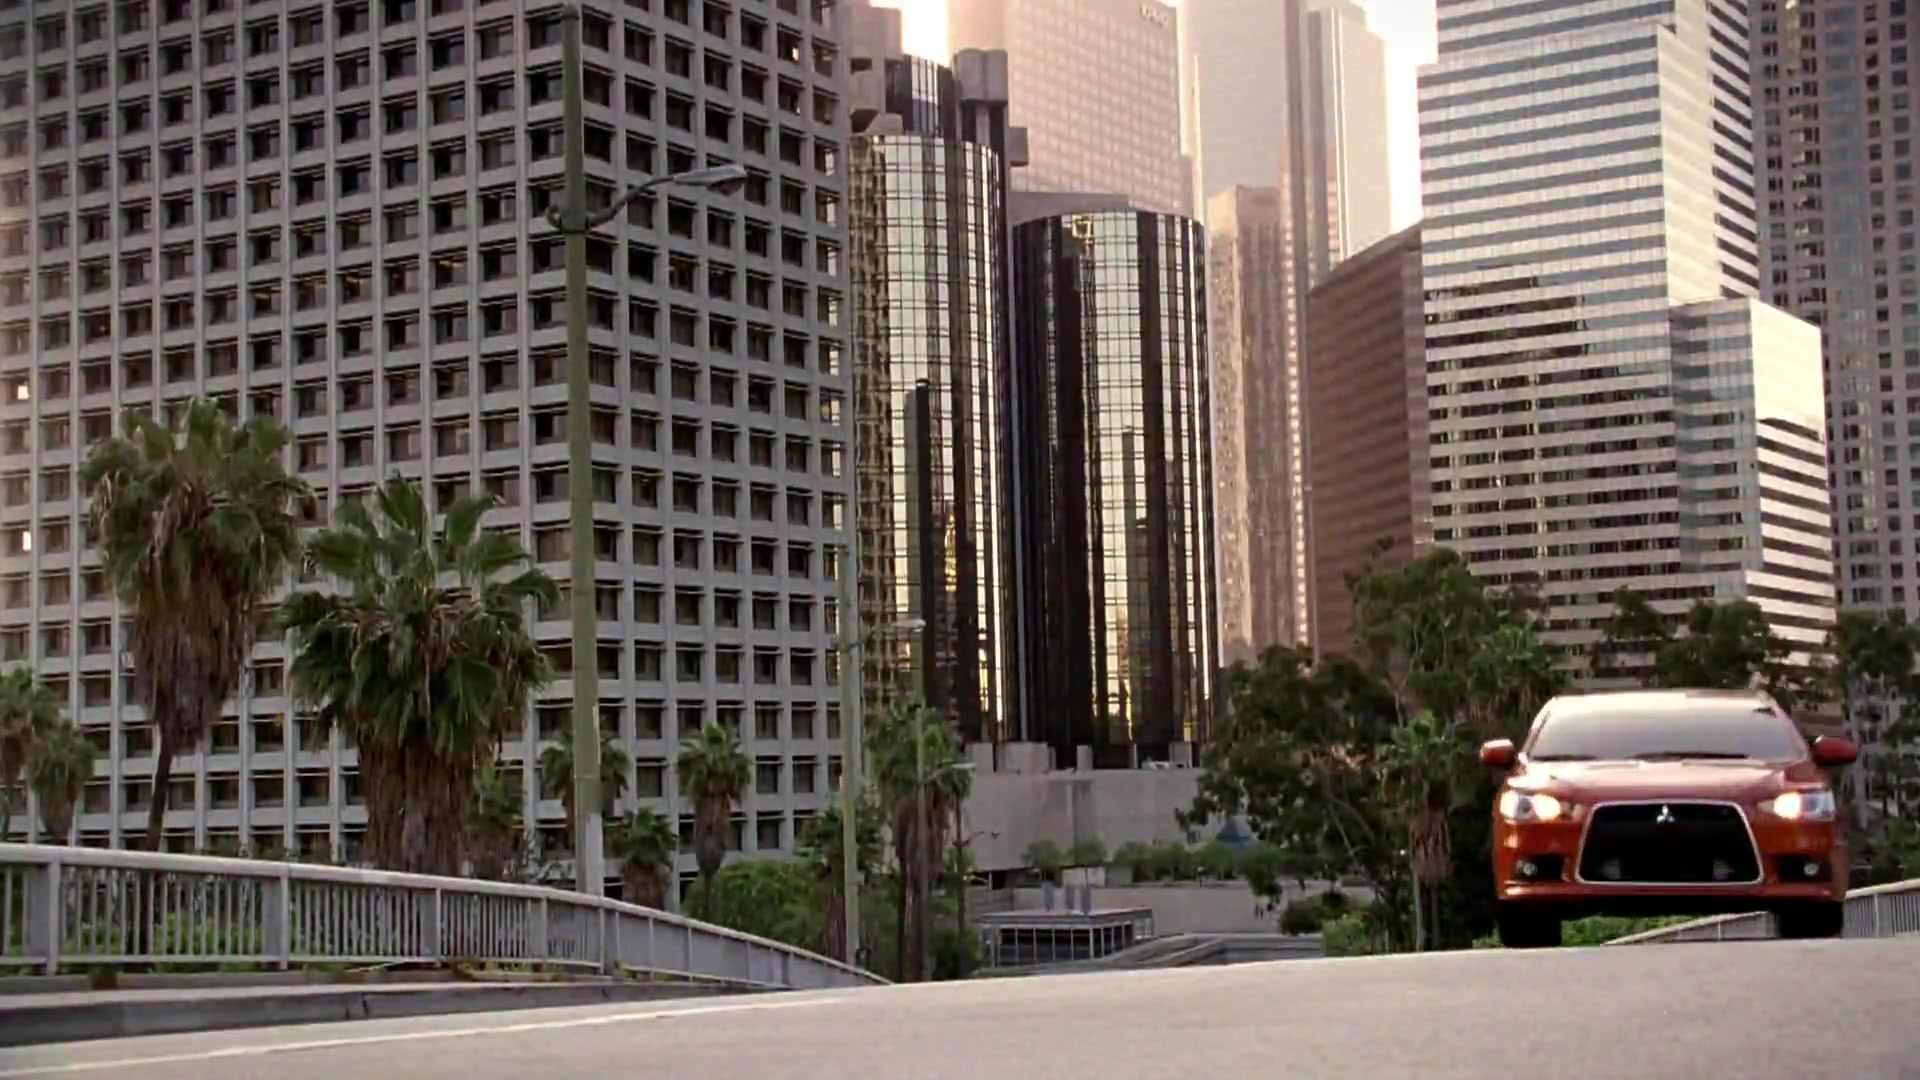car: (1472, 680, 1865, 940)
